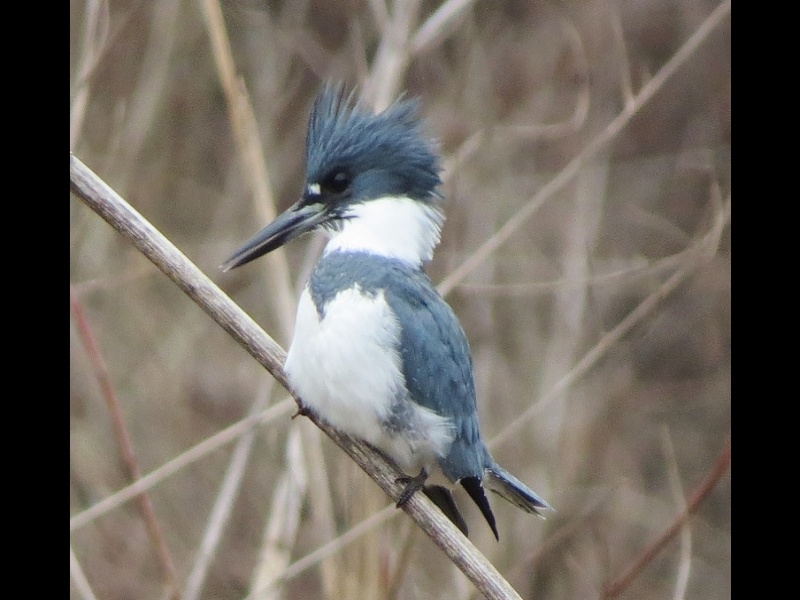kingfisher: (214, 74, 562, 562)
